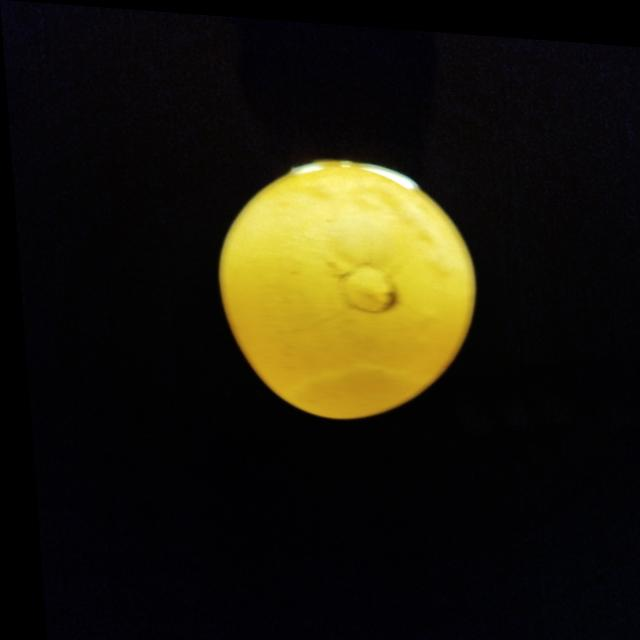Camara de Ar: (279, 365, 420, 414)
Rachadura: (283, 257, 413, 329)
